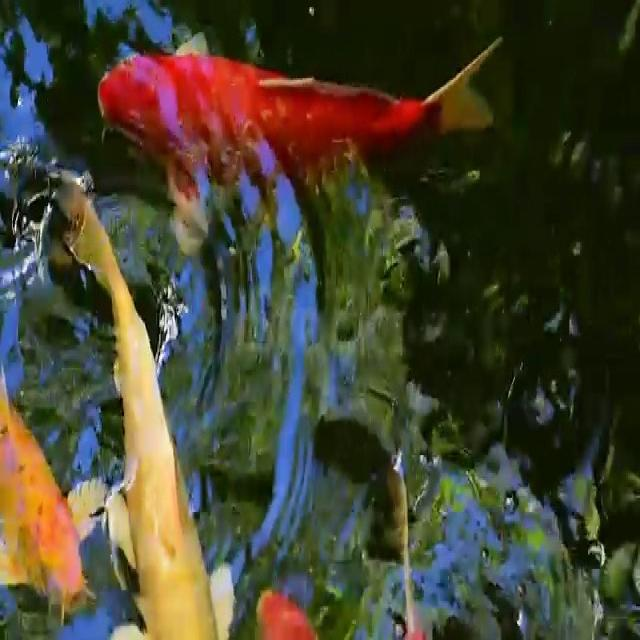fish: (95, 12, 529, 240), (69, 186, 239, 640), (0, 352, 105, 629)
